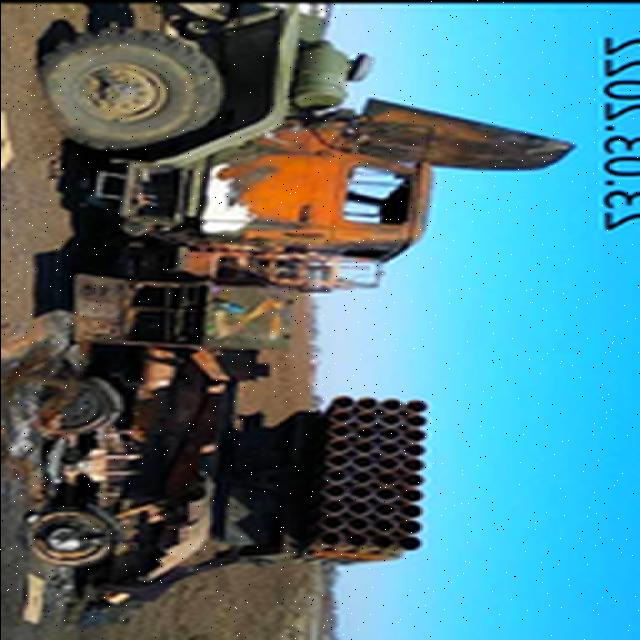MLRS: (22, 8, 578, 600)
